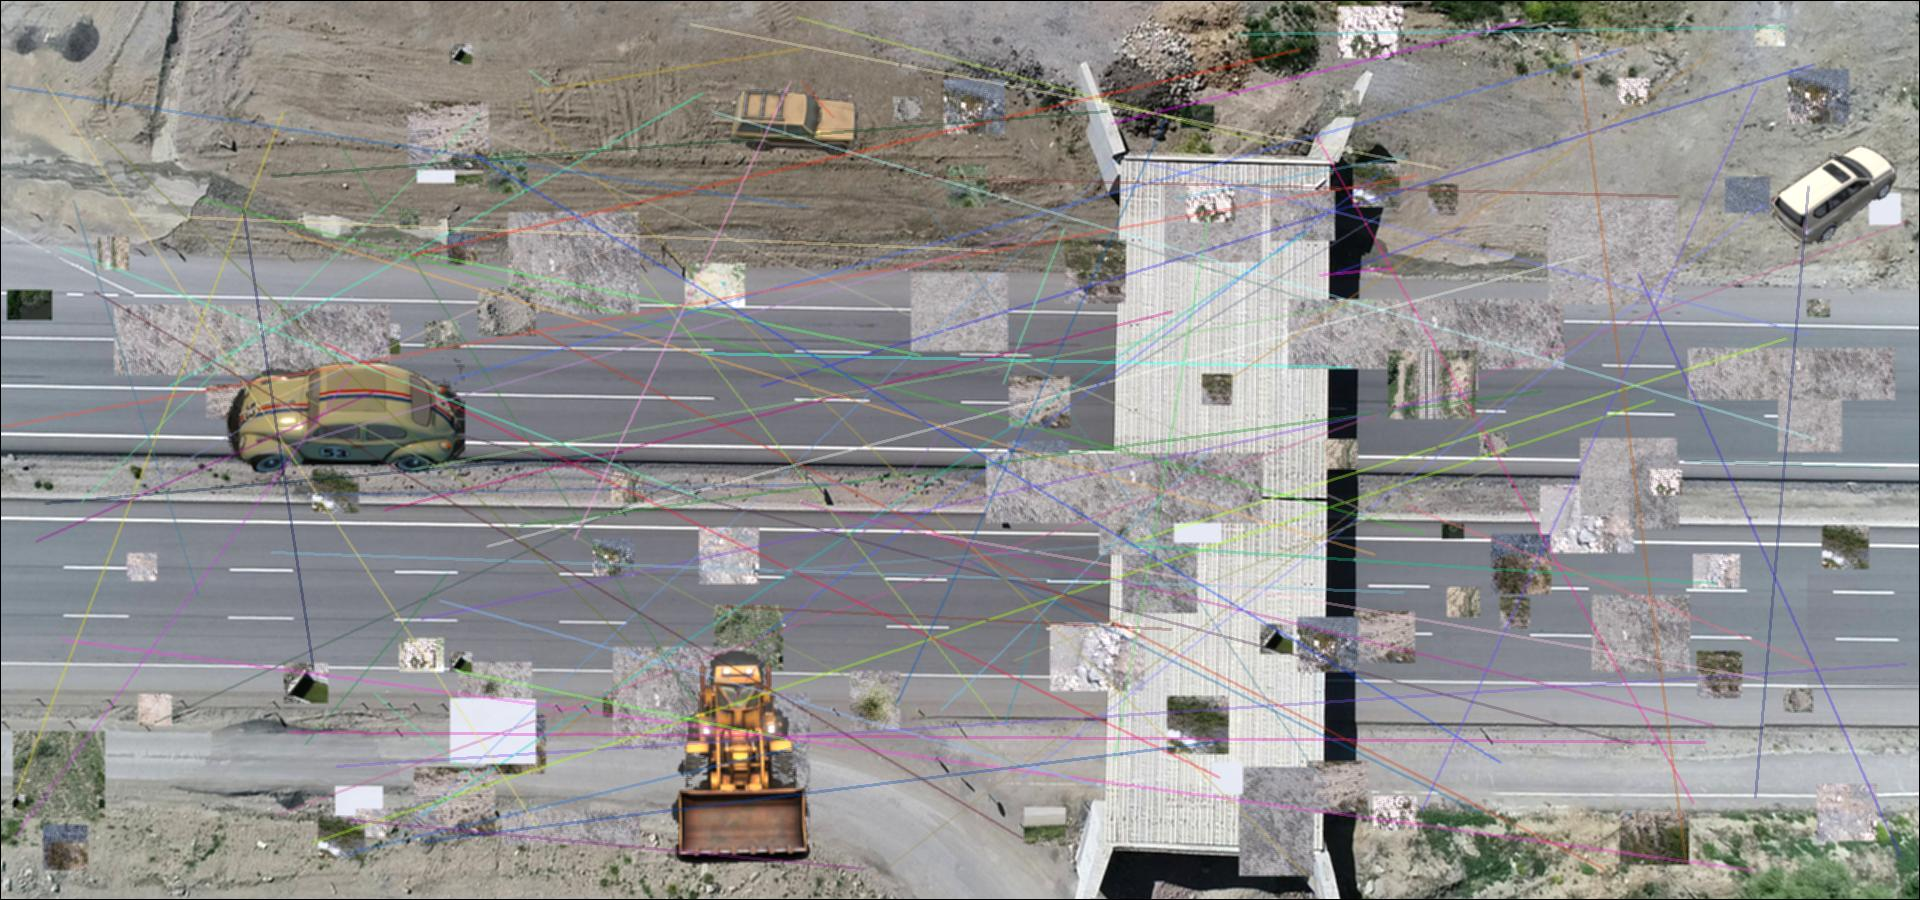arac: (669, 647, 816, 872), (225, 358, 465, 476), (1771, 146, 1899, 246), (729, 84, 863, 157)
